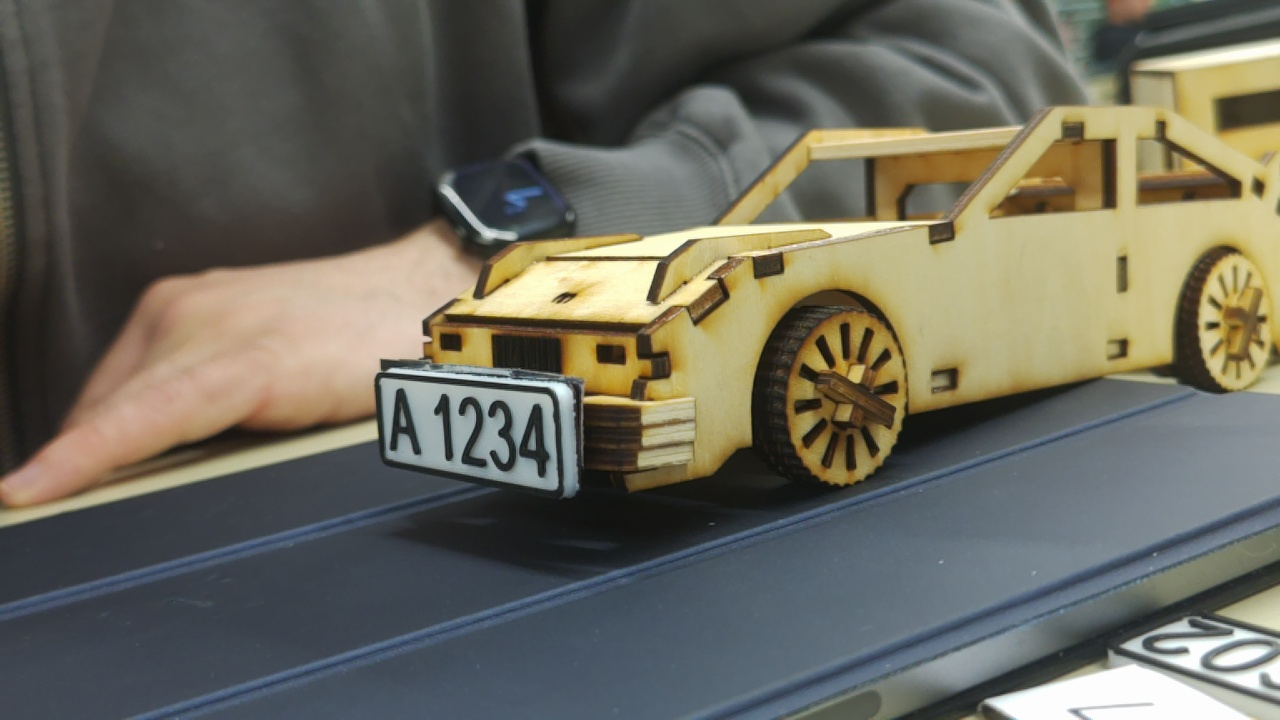license_plate: (370, 355, 585, 503)
